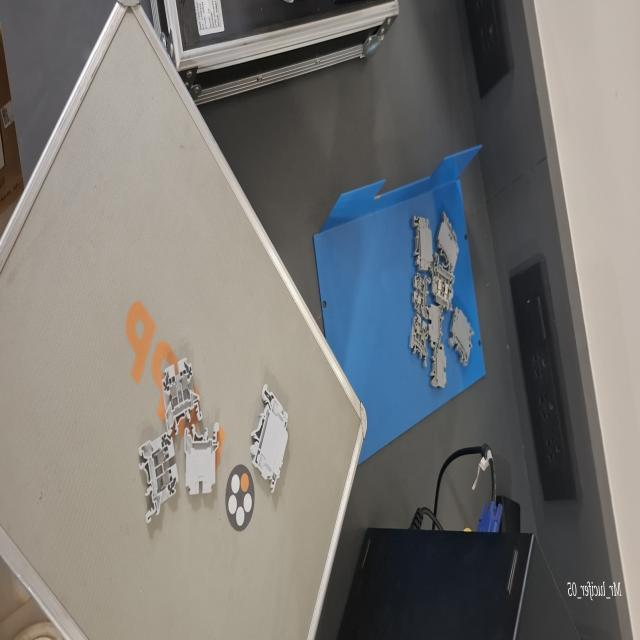Inverted: (181, 418, 222, 502), (427, 301, 445, 352), (429, 344, 447, 390)
Pass: (137, 421, 180, 534), (160, 348, 203, 438), (408, 312, 430, 370), (411, 272, 431, 320)
